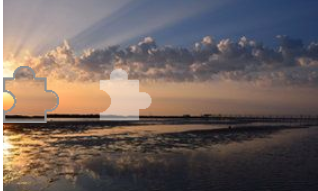target: (92, 69, 158, 123)
